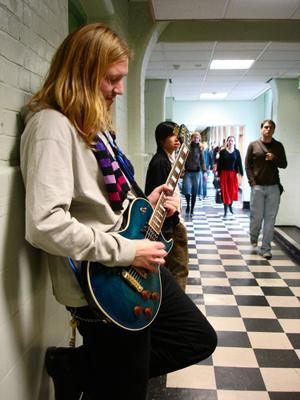person: (21, 22, 217, 393)
